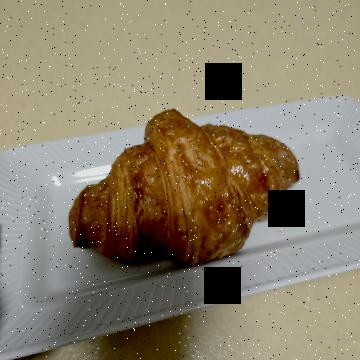croissant: (110, 55, 287, 306)
